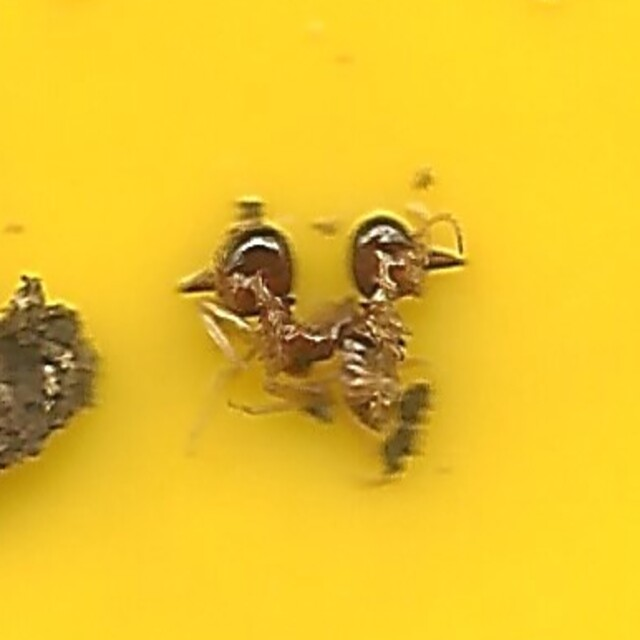Isoptera: (328, 201, 474, 439), (166, 219, 353, 397)
